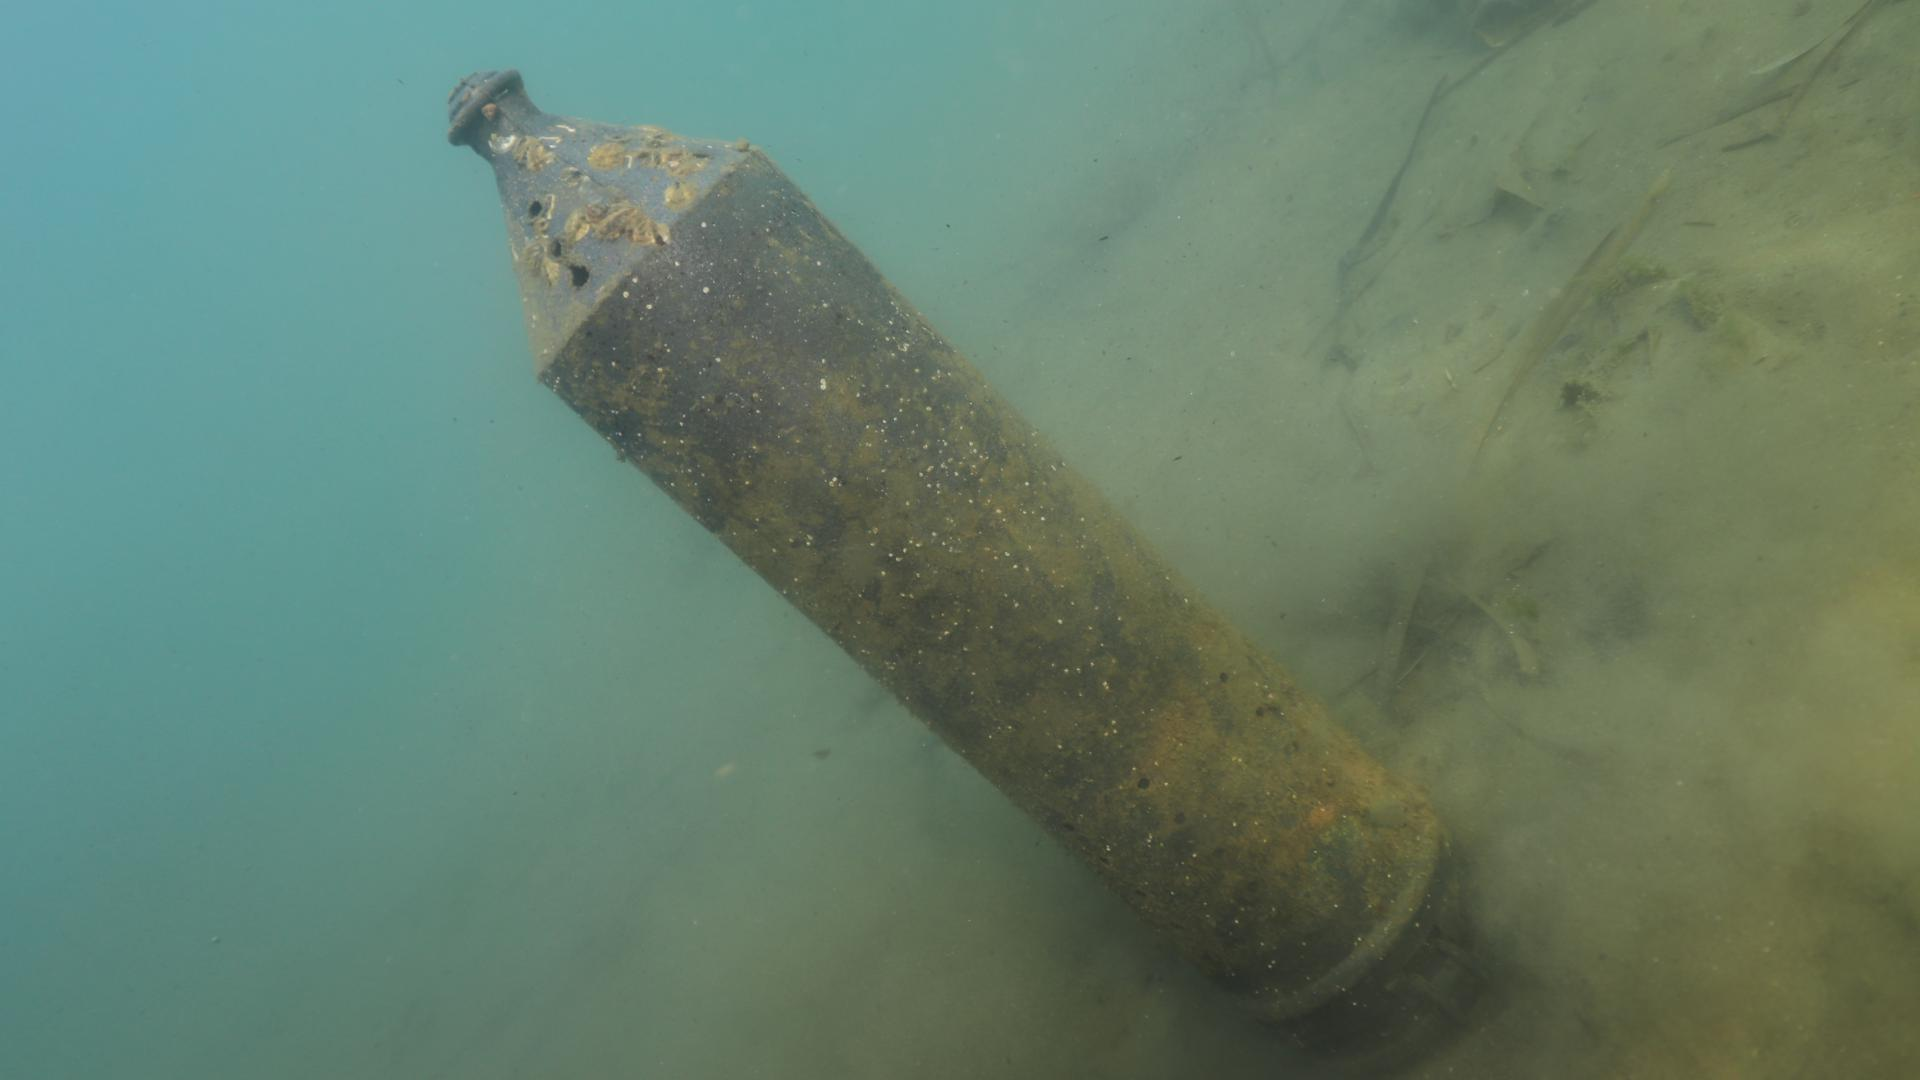eel fish trap: (438, 65, 1444, 1025)
